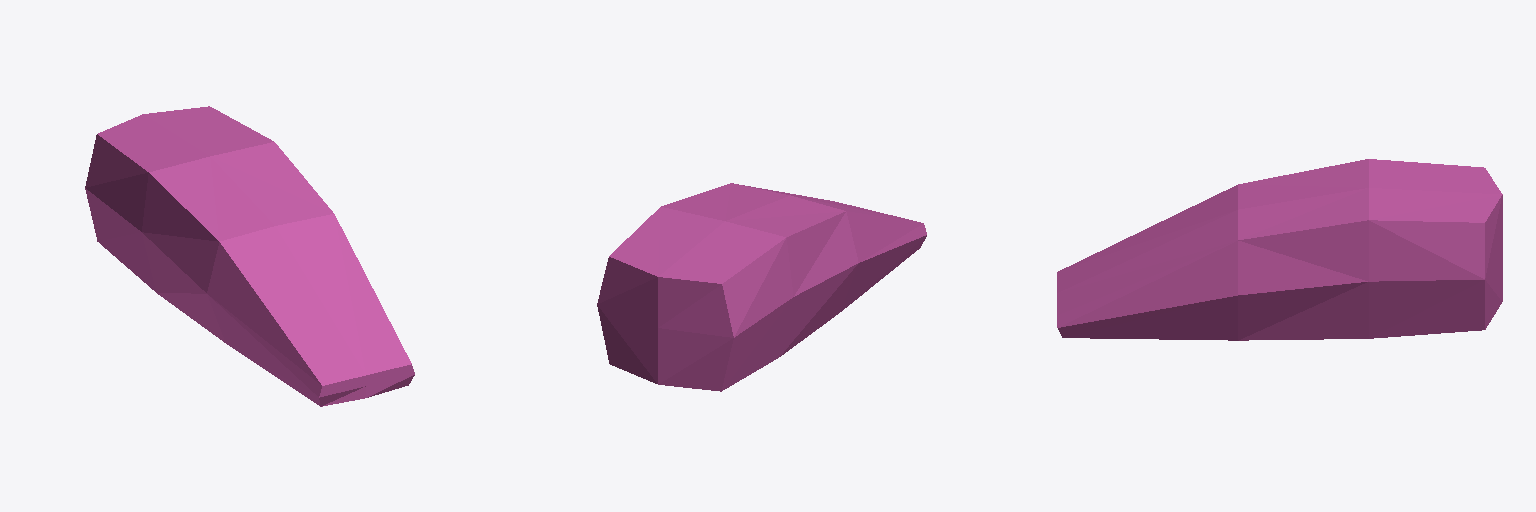
The model's file is salmon_clr.obj.
3 renders of one model, left to right at view 1: azimuth 30°, elevation 25°; view 2: azimuth 150°, elevation 25°; view 3: azimuth 270°, elevation 25°, orthographic.
Parts seen in each view (by area): view 1: Salmon.001; view 2: Salmon.001; view 3: Salmon.001.
Part boxes in pixels (x1,y1,x2,y2): Salmon.001: (85,106,414,406); Salmon.001: (597,183,926,391); Salmon.001: (1057,159,1502,340).
Bounding box in the file's own units: 3.23 × 2.98 × 8.91.